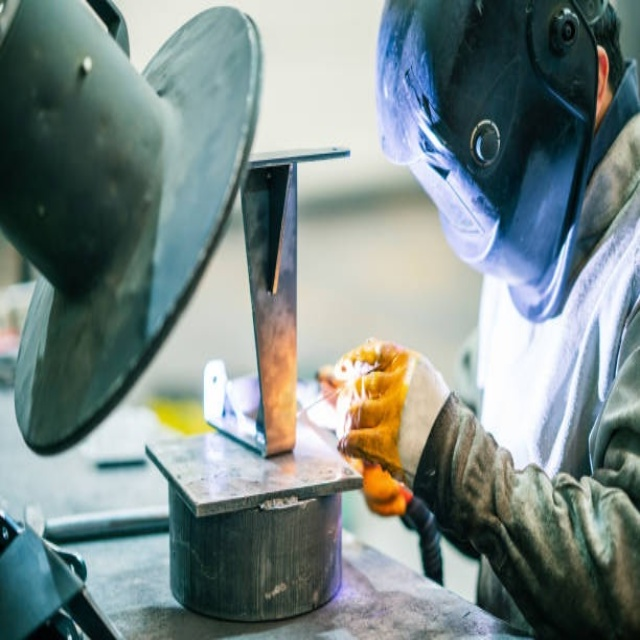Guantes: (334, 320, 456, 485)
